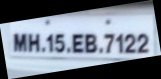character: (13, 33, 27, 53), (84, 33, 96, 53), (72, 34, 84, 53), (103, 33, 114, 53), (137, 33, 148, 53), (54, 34, 65, 53), (124, 34, 135, 53), (28, 33, 39, 51), (115, 33, 123, 55), (45, 34, 54, 53)
